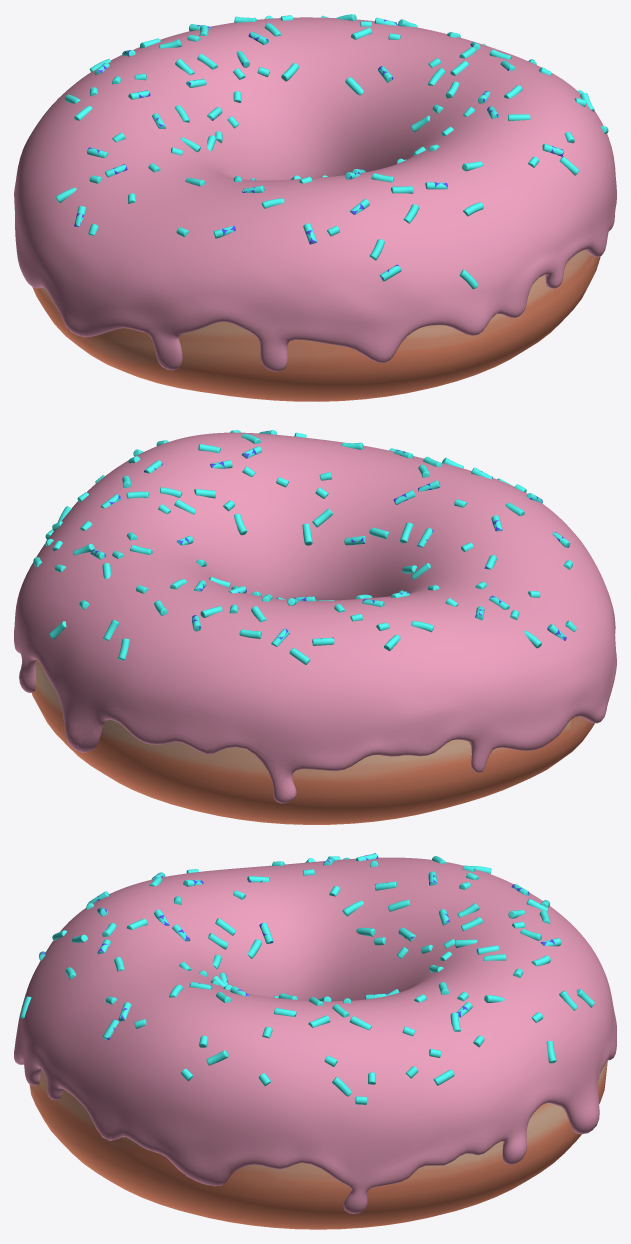
Rendered from donut.fbx.
3 renders of one model, top to bottom at view 1: azimuth 30°, elevation 25°; view 2: azimuth 150°, elevation 25°; view 3: azimuth 270°, elevation 25°, orthographic.
Parts seen in each view (by area): view 1: icing.002, donut-T; view 2: icing.002, donut-T; view 3: icing.002, donut-T.
Boxes of the visible parts, left/top/right/bottom form: icing.002: left=14, top=14, right=616, bottom=371; donut-T: left=32, top=250, right=600, bottom=401; icing.002: left=14, top=430, right=616, bottom=803; donut-T: left=32, top=660, right=594, bottom=824; icing.002: left=14, top=853, right=616, bottom=1213; donut-T: left=29, top=1061, right=607, bottom=1229.
Size of the model in its own units: 14.7 by 5.91 by 14.53.
